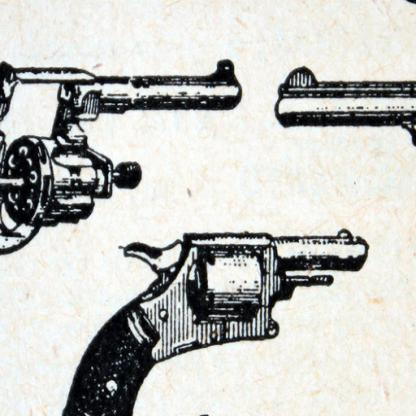gun: (0, 58, 242, 395), (58, 226, 372, 415), (275, 61, 415, 415)
